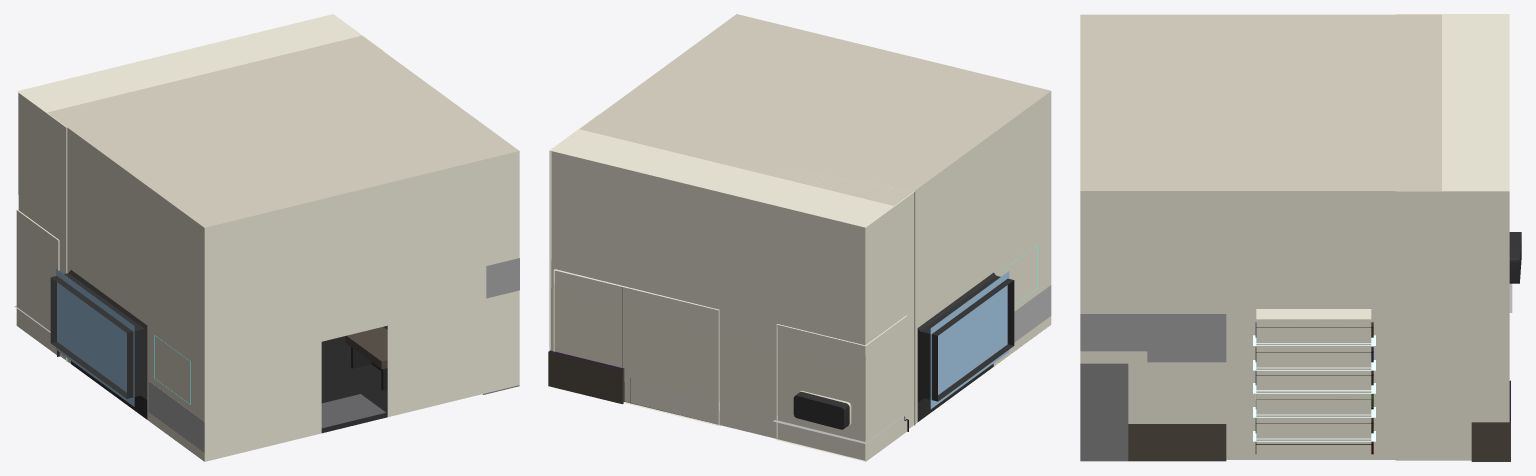
File: Sec_Apartment_01.fbx
The picture shows the model from 3 angles, left to right: view 1: azimuth 30°, elevation 25°; view 2: azimuth 150°, elevation 25°; view 3: azimuth 270°, elevation 25°; orthographic projection. The views are drawn at different scales.
Parts seen in each view (by area): view 1: Walls_01, Ceiling_01, BackWall_01, WindowPane_01, Floor_01, Couch_01, KitchenIsland_01, Carpet_01, KitchenCabinets_01; view 2: Walls_01, Ceiling_01, BackWall_01, WindowPane_01, BathroomSink_01, Couch_01; view 3: Walls_01, Ceiling_01, BackWall_01, KitchenCabinets_01, Fridge_01, KitchenSink_01, BookShelf_01, BathroomSink_01, Books_01.
Part boxes in pixels (x1,y1,x2,y2): Walls_01: [18, 93, 519, 461]; Ceiling_01: [47, 35, 518, 227]; BackWall_01: [16, 14, 382, 361]; WindowPane_01: [56, 269, 134, 406]; Floor_01: [321, 325, 387, 433]; Couch_01: [148, 381, 204, 452]; KitchenIsland_01: [345, 327, 387, 390]; Carpet_01: [321, 394, 385, 428]; KitchenCabinets_01: [486, 258, 519, 298]; Walls_01: [551, 91, 1051, 460]; Ceiling_01: [579, 14, 1050, 205]; BackWall_01: [549, 114, 915, 461]; WindowPane_01: [930, 271, 1009, 408]; BathroomSink_01: [548, 350, 624, 404]; Couch_01: [1014, 285, 1051, 342]; Walls_01: [1080, 191, 1521, 459]; Ceiling_01: [1080, 14, 1441, 190]; BackWall_01: [1395, 14, 1509, 460]; KitchenCabinets_01: [1080, 314, 1226, 362]; Fridge_01: [1080, 363, 1128, 461]; KitchenSink_01: [1128, 424, 1226, 461]; BookShelf_01: [1253, 335, 1375, 441]; BathroomSink_01: [1471, 380, 1510, 461]; Books_01: [1255, 322, 1373, 454].
Bounding box in the file's own units: 2792 × 1771 × 2620.
